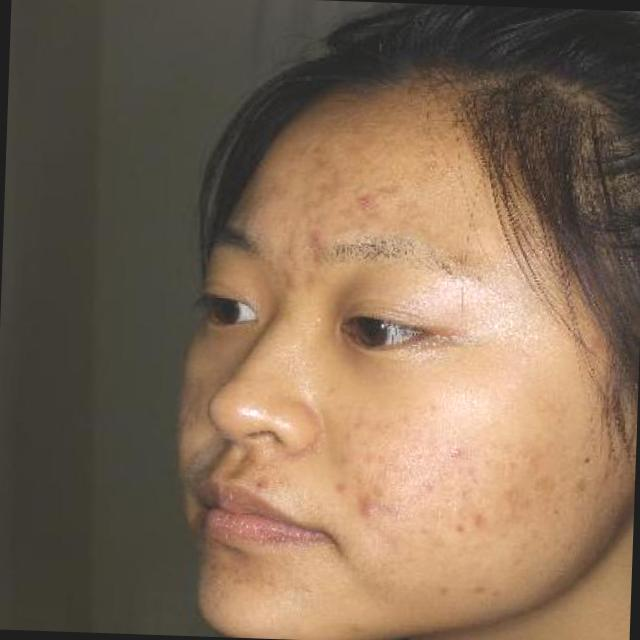nodules: (356, 494, 377, 524), (443, 444, 469, 462), (420, 478, 442, 490)
